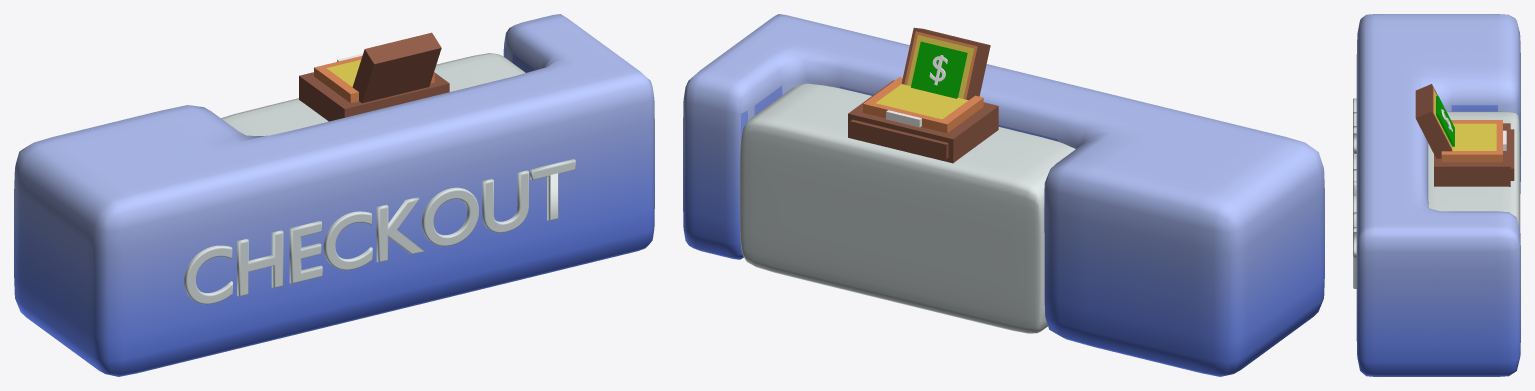
File: Checkout.fbx
3 renders of one model, left to right at view 1: azimuth 30°, elevation 25°; view 2: azimuth 150°, elevation 25°; view 3: azimuth 270°, elevation 25°, orthographic. The views are drawn at different scales.
Parts seen in each view (by area): view 1: Checkout, Kasa; view 2: Checkout, Kasa; view 3: Checkout, Kasa.
Boxes of the visible parts, <box> form: Checkout: <box>14,14,654,376</box>; Kasa: <box>299,32,449,121</box>; Checkout: <box>683,14,1324,376</box>; Kasa: <box>848,27,998,163</box>; Checkout: <box>1353,14,1520,376</box>; Kasa: <box>1415,84,1514,186</box>.
Size of the model in its own units: 4.63 by 1.84 by 1.44.
